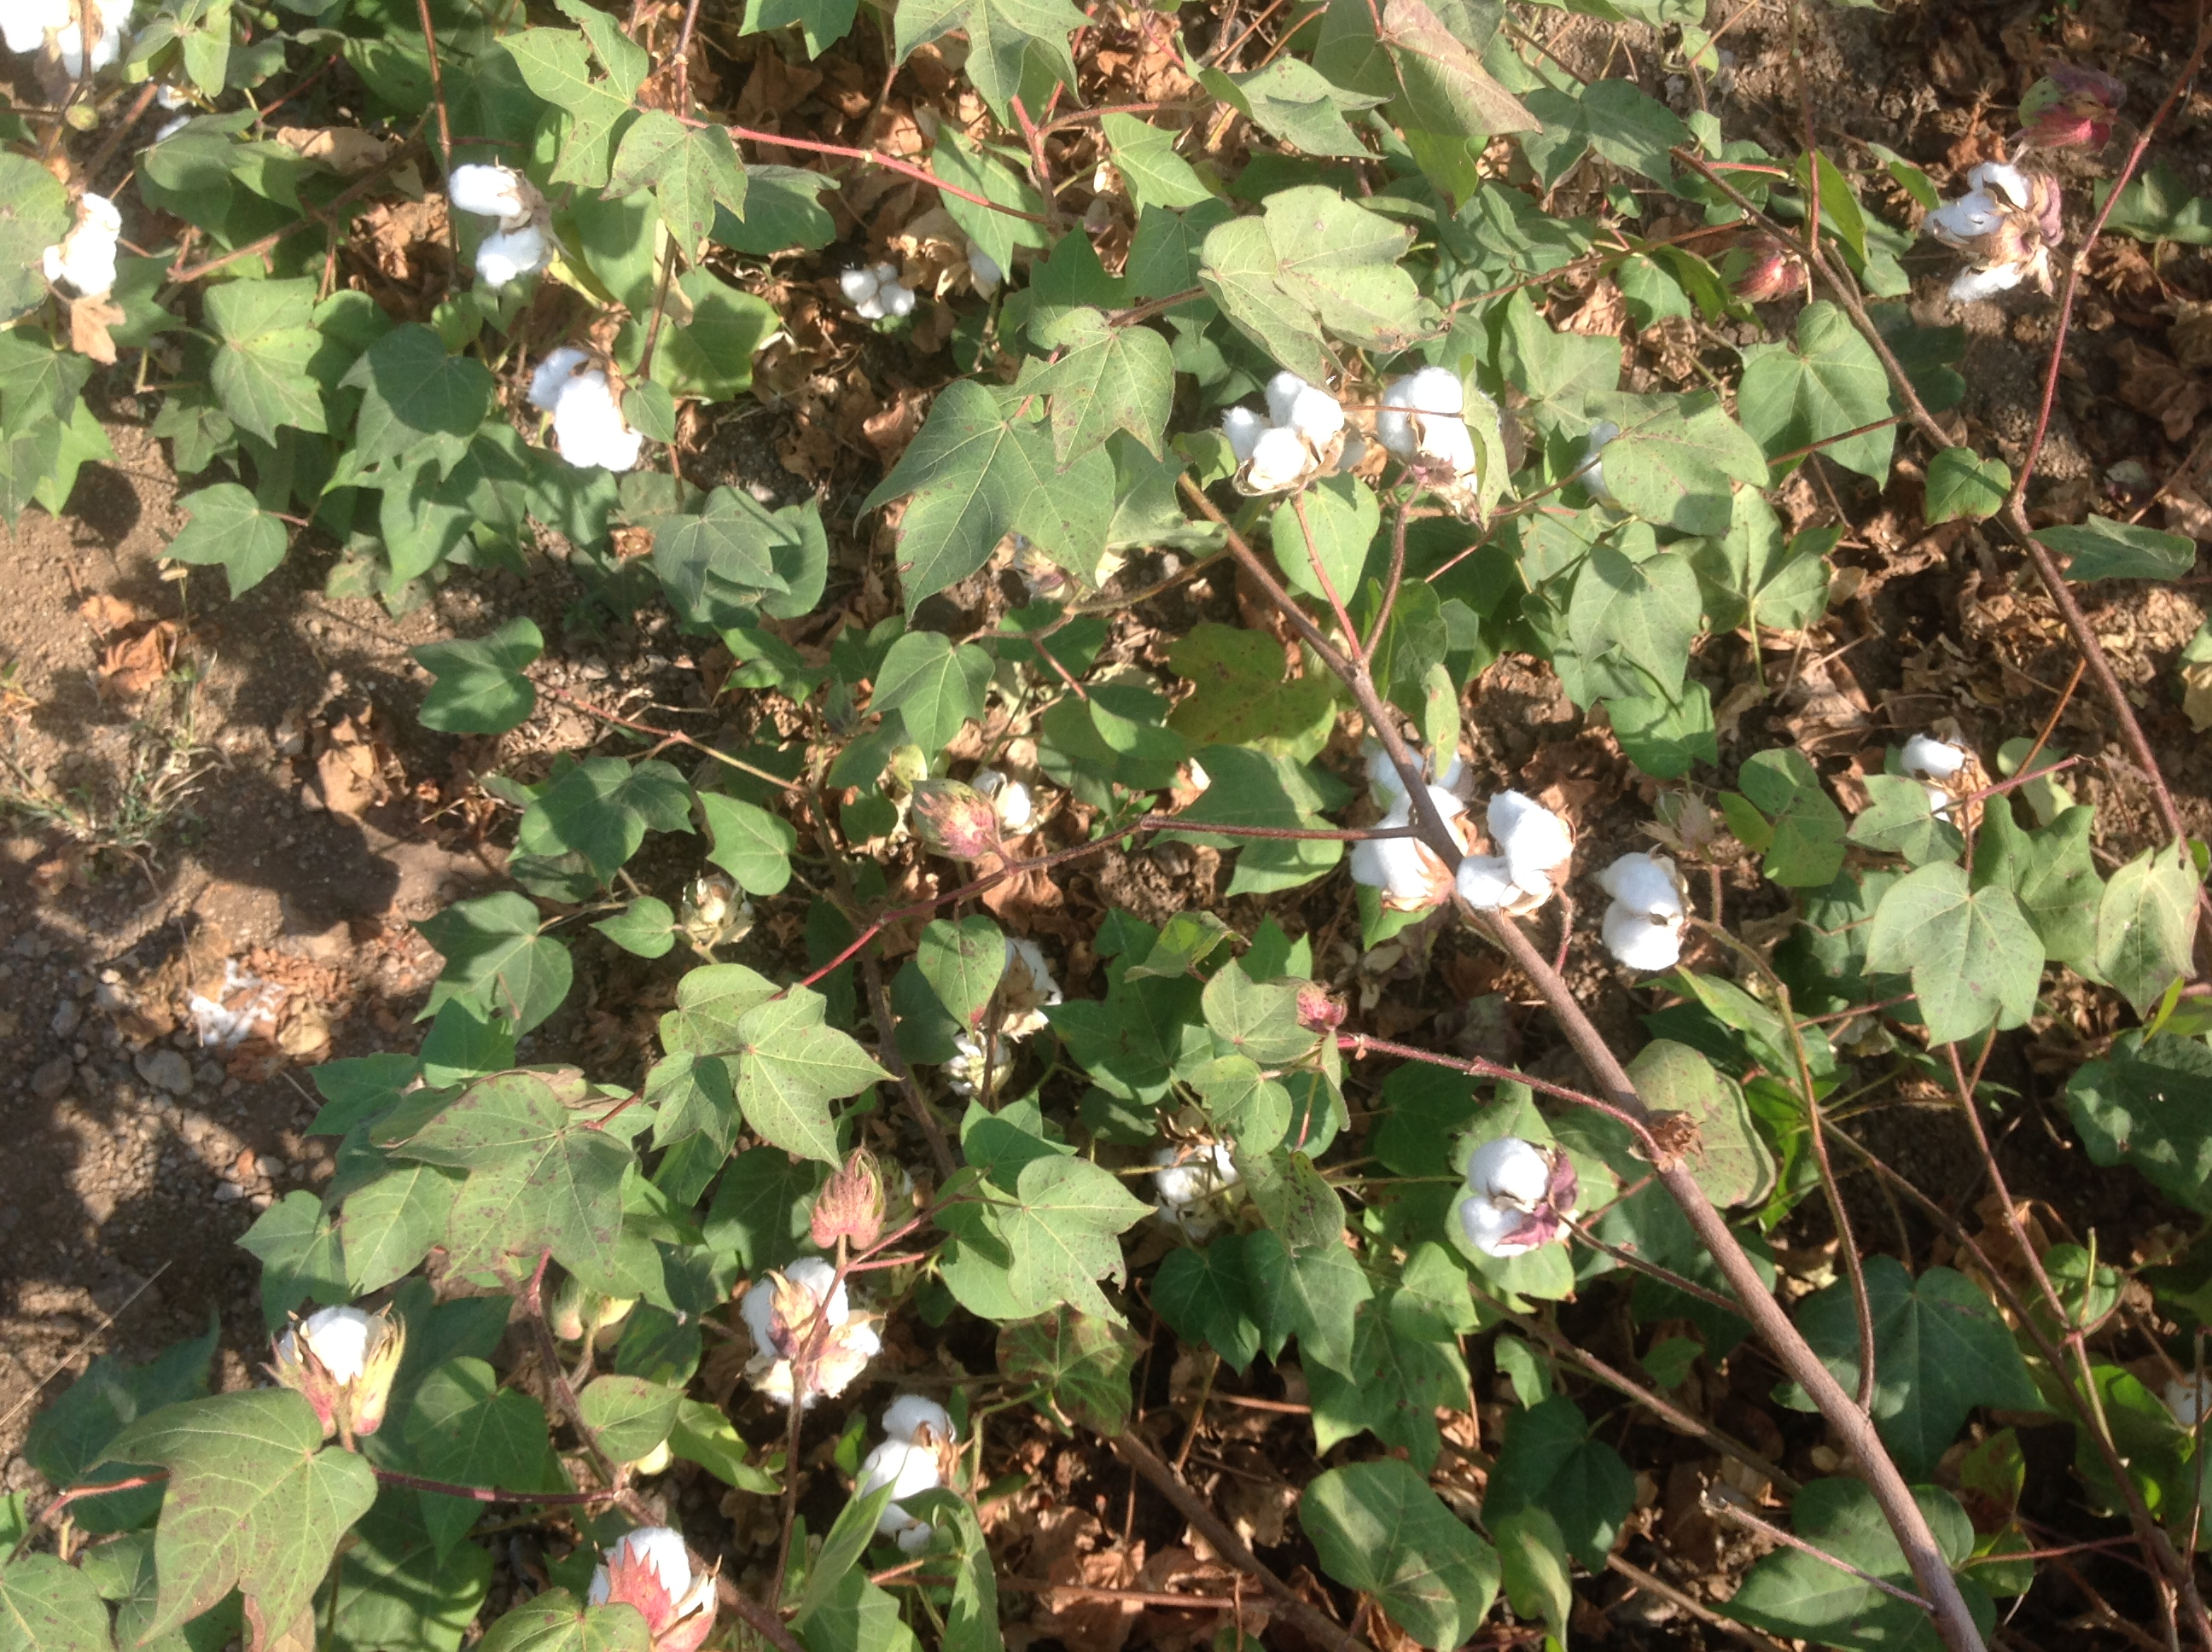cotton: (1348, 731, 1492, 916), (720, 1255, 887, 1414), (269, 1300, 416, 1456), (1190, 361, 1360, 496), (857, 1386, 973, 1579), (928, 942, 1081, 1086), (519, 342, 678, 474), (1922, 167, 2089, 283), (1457, 791, 1594, 927), (1372, 371, 1490, 524), (1440, 1137, 1582, 1255), (586, 1524, 723, 1643), (437, 156, 569, 279), (1582, 852, 1714, 975), (28, 191, 135, 319), (1891, 727, 1999, 842), (1145, 1128, 1249, 1242), (3, 0, 139, 85), (834, 246, 909, 318), (978, 767, 1043, 831)
